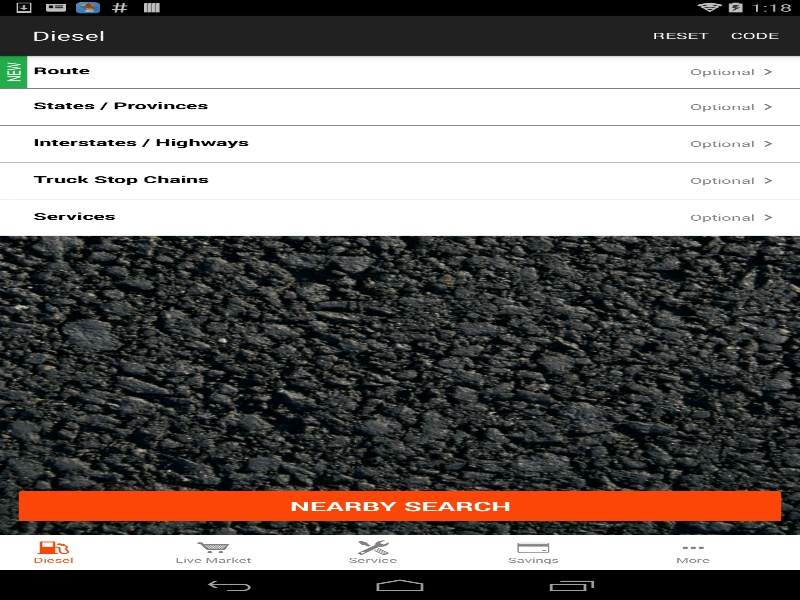Button: (13, 487, 786, 525)
Input: (33, 62, 690, 77), (33, 97, 690, 112), (33, 134, 690, 149), (33, 171, 690, 186), (33, 208, 690, 223)
